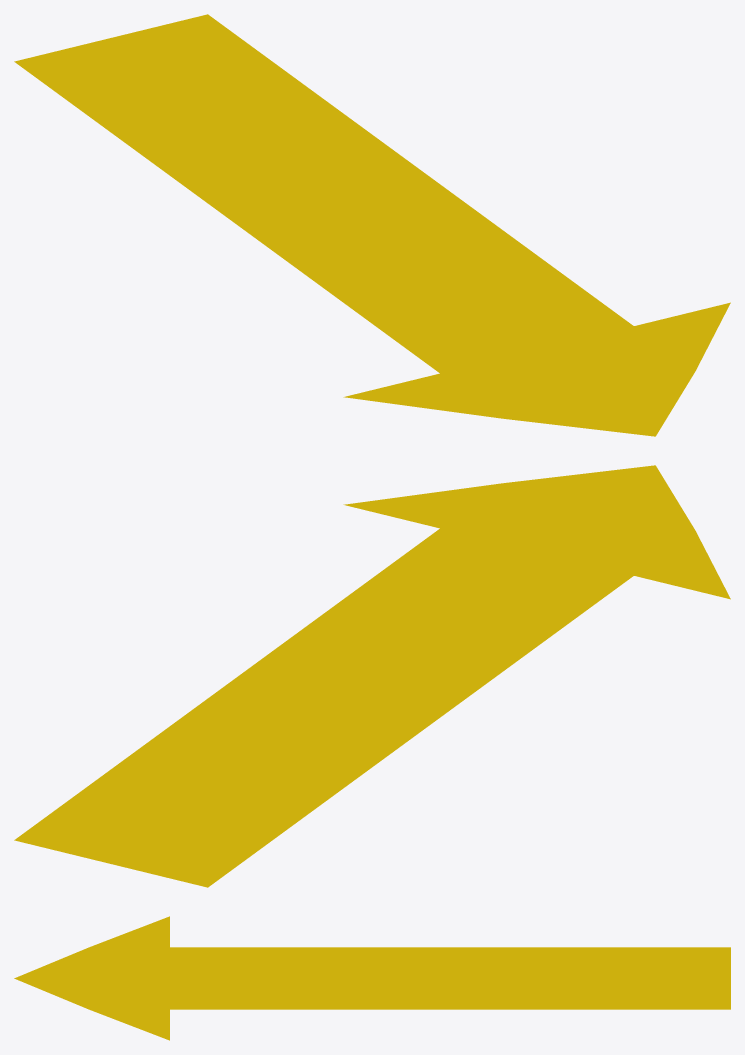
File: arrow.fbx
The picture shows the model from 3 angles, top to bottom: view 1: azimuth 30°, elevation 25°; view 2: azimuth 150°, elevation 25°; view 3: azimuth 270°, elevation 25°; orthographic projection. The views are drawn at different scales.
Visible parts, largest first — view 1: pPlane1; view 2: pPlane1; view 3: pPlane1.
Boxes of the visible parts, bbox=[...] form: pPlane1: bbox=[14, 14, 730, 436]; pPlane1: bbox=[14, 465, 730, 887]; pPlane1: bbox=[14, 916, 730, 1040].
Size of the model in its own units: 39.06 by 0 by 95.02.
